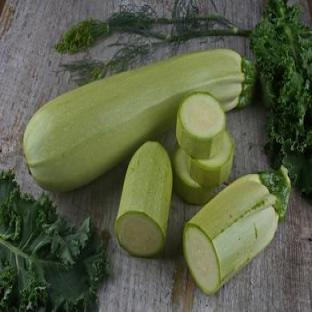Zucchini: (24, 50, 254, 190), (184, 167, 290, 293), (116, 142, 172, 256), (176, 93, 225, 158), (188, 131, 234, 187), (172, 148, 214, 205)
